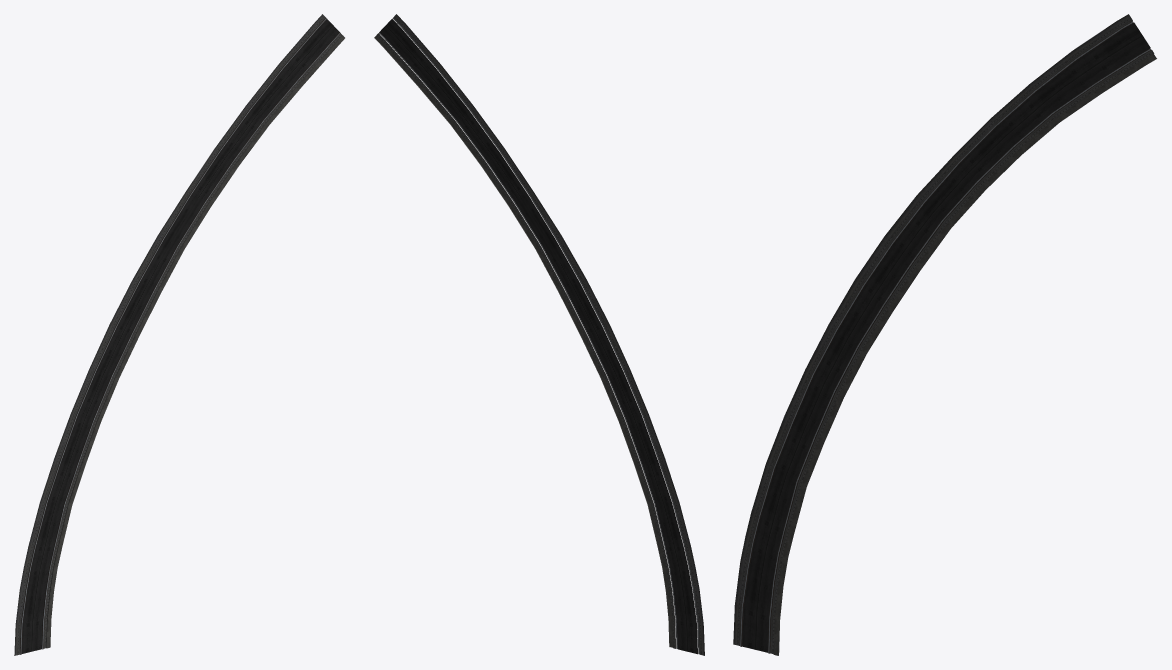
File: p6_express_train_track_b01_LOD1.obj
3 renders of one model, left to right at view 1: azimuth 30°, elevation 25°; view 2: azimuth 150°, elevation 25°; view 3: azimuth 330°, elevation 25°, orthographic. The views are drawn at different scales.
Visible parts, largest first — view 1: metal_aircraft_catapult_strip, dub_concrete_wall_01_trim_clean, railroadtrack_top, railroadtrack_side; view 2: metal_aircraft_catapult_strip, dub_concrete_wall_01_trim_clean, railroadtrack_top; view 3: metal_aircraft_catapult_strip, dub_concrete_wall_01_trim_clean, railroadtrack_top, railroadtrack_side.
Boxes of the visible parts, left/top/right/bottom form: metal_aircraft_catapult_strip: left=14, top=14, right=341, bottom=655; dub_concrete_wall_01_trim_clean: left=46, top=35, right=344, bottom=648; railroadtrack_top: left=20, top=18, right=340, bottom=654; railroadtrack_side: left=20, top=18, right=339, bottom=654; metal_aircraft_catapult_strip: left=377, top=14, right=704, bottom=655; dub_concrete_wall_01_trim_clean: left=374, top=35, right=672, bottom=647; railroadtrack_top: left=379, top=18, right=699, bottom=654; metal_aircraft_catapult_strip: left=733, top=14, right=1154, bottom=653; dub_concrete_wall_01_trim_clean: left=773, top=54, right=1156, bottom=655; railroadtrack_top: left=740, top=21, right=1151, bottom=653; railroadtrack_side: left=741, top=92, right=1035, bottom=653.
Size of the model in its own units: 4191 by 6861 by 12.88.
